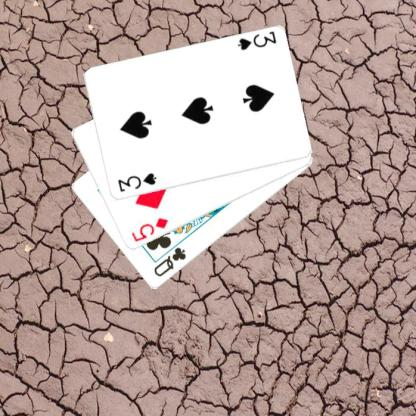3S: (115, 170, 158, 194), (235, 29, 278, 52)
5D: (129, 215, 169, 244)
QC: (151, 245, 188, 278)
